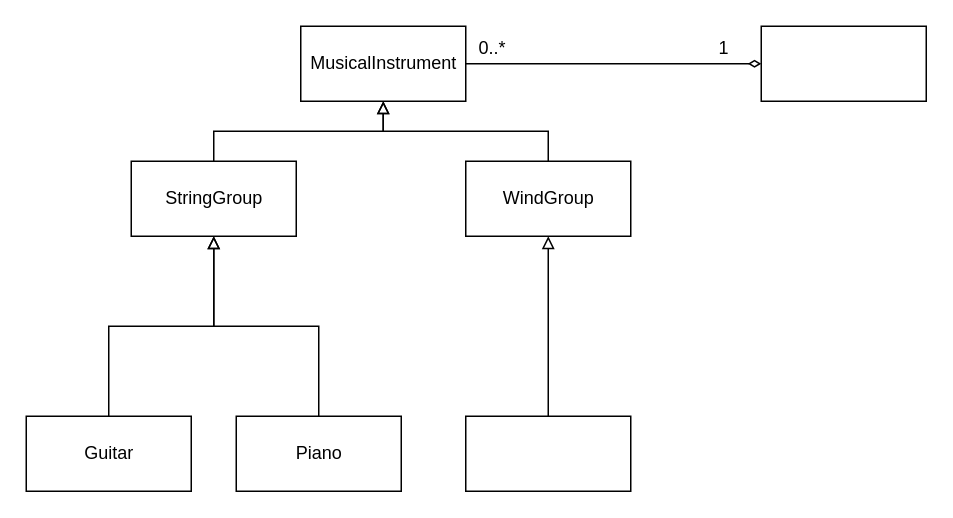
Some shapes in this 953 by 518 pixel diagram are drawn without their labels. Here are the shapes that lost their labels. From the top down, the box of each, then its label:
(760, 25, 926, 101): MusicShop
(464, 415, 631, 491): Tube
